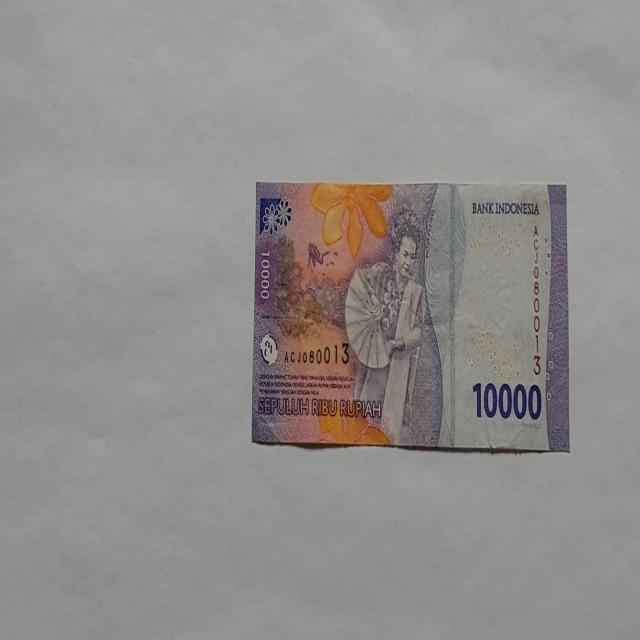sepuluh ribu rupiah: (250, 180, 570, 452)
